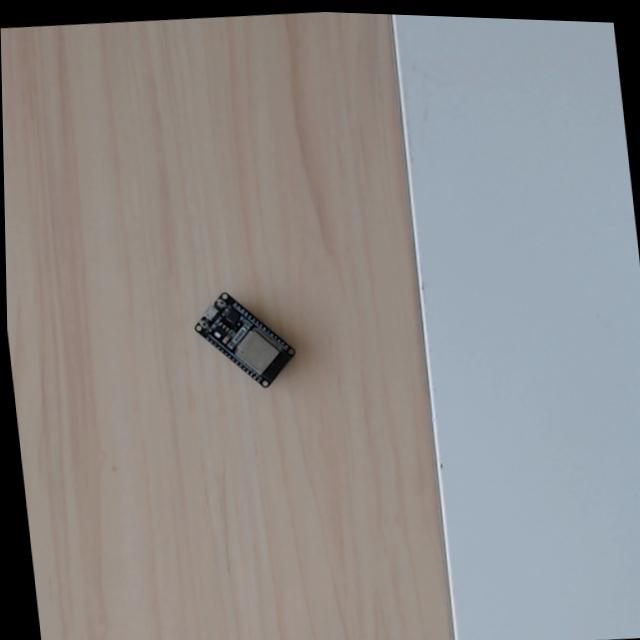ESP32-DevKit: (187, 286, 298, 391)
